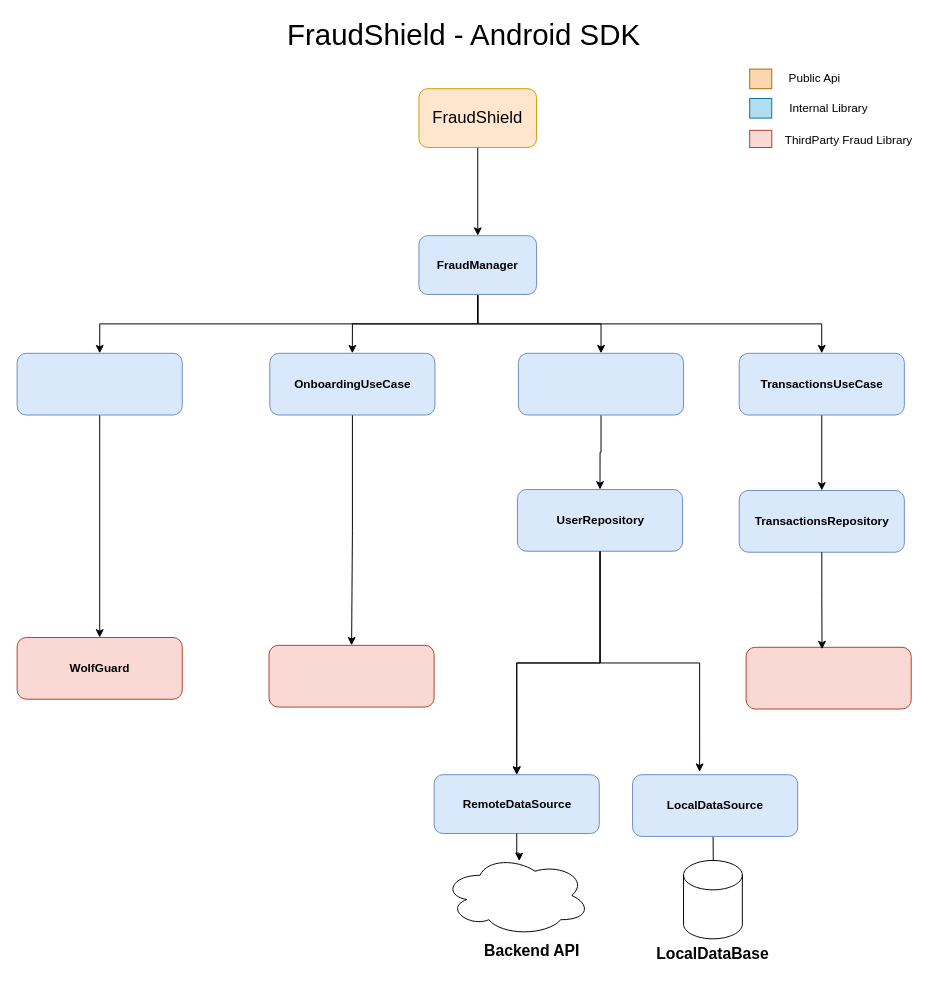
This 940x990 diagram has some shape labels left out. Each missing label, with the box of its shape:
DeviceProtectionUseCase: (16, 352, 182, 415)
ThirdParty Fraud Library 1: (268, 644, 434, 707)
ThirdParty Fraud Library 2: (745, 646, 911, 709)
UserUseCase: (517, 352, 684, 415)
